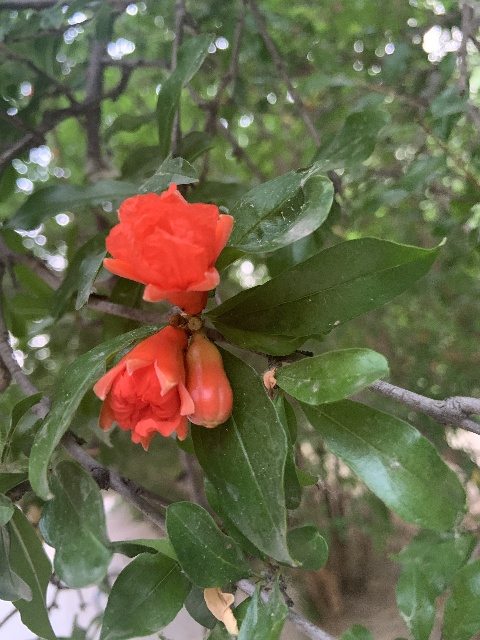bud: (185, 333, 233, 428), (168, 315, 183, 327)
flower: (102, 181, 233, 316), (93, 325, 193, 450)
